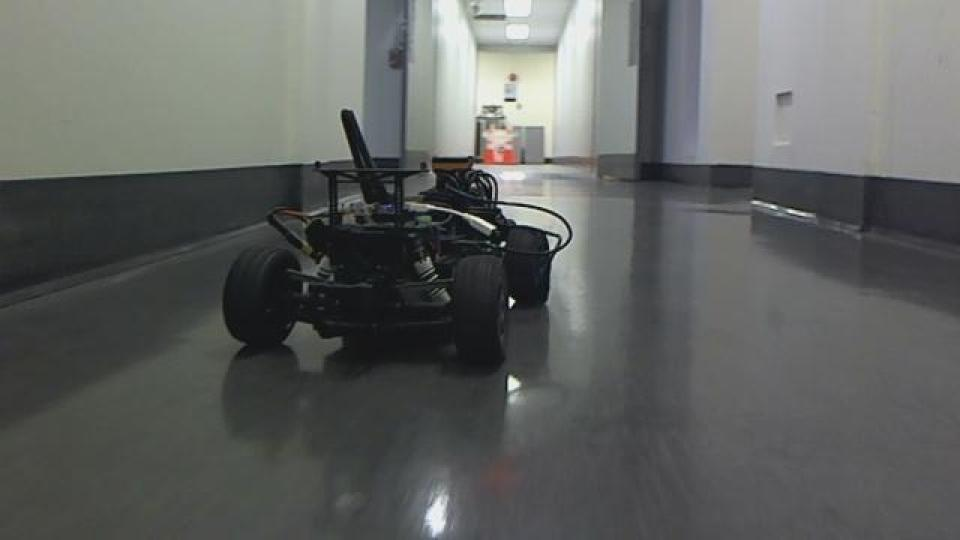car: (219, 106, 575, 368)
